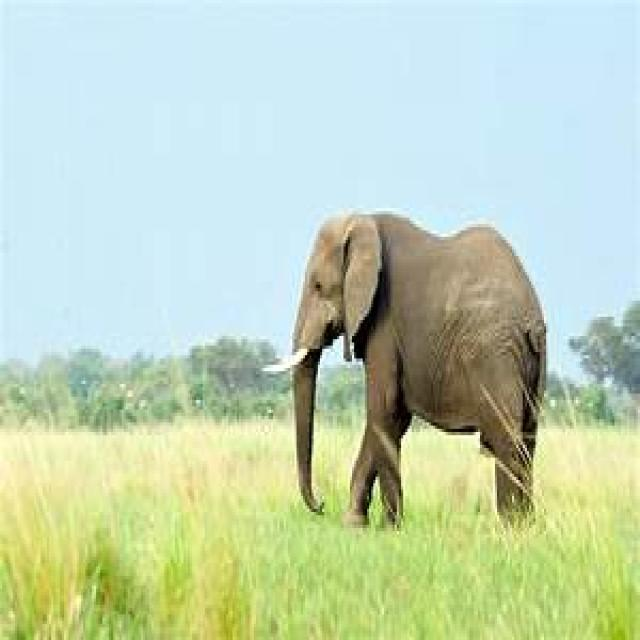elephant: (267, 211, 548, 531)
